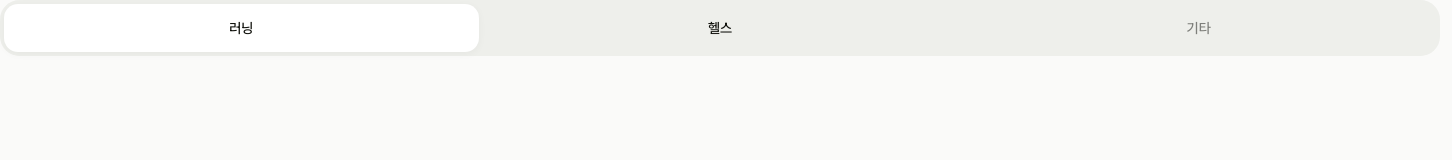
Test: SegmentedControl › 초깃값과 클릭한 선택값을 이름에 맞춰 FormData에 한 번만 포함한다
The image size is (1452, 160).
Click the button "헬스" at (720, 28), box [483, 4, 957, 52]
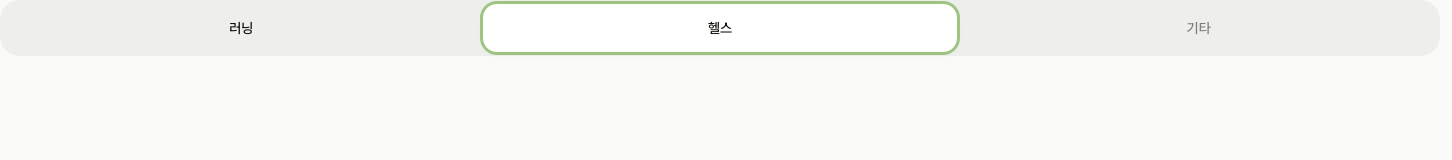
Check: the button "헬스" is pressed, box [483, 4, 957, 52]
